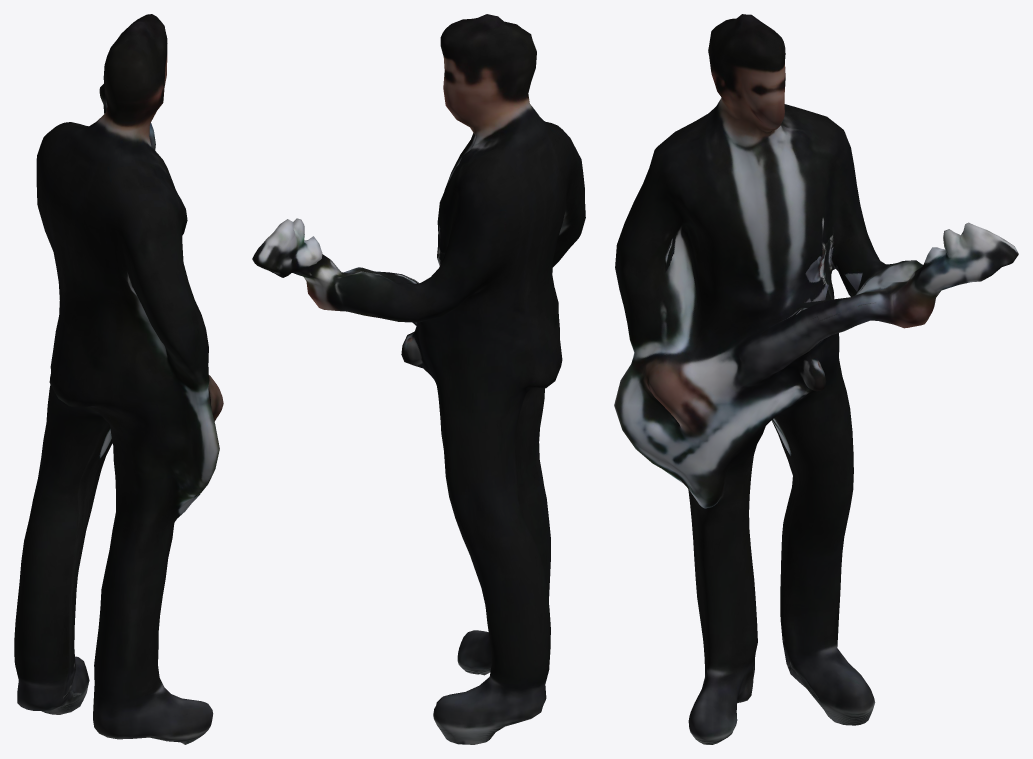
The model's file is 8cac6ec20dd6_bass_guitarist_eleg.obj.
3 views of the same model, side by side, from view 1: azimuth 30°, elevation 25°; view 2: azimuth 150°, elevation 25°; view 3: azimuth 270°, elevation 25° (orthographic). The views are drawn at different scales.
Visible parts, largest first — view 1: mesh; view 2: mesh; view 3: mesh.
Part boxes in pixels (x1,y1,x2,y2): mesh: (14, 14, 223, 744); mesh: (252, 14, 585, 744); mesh: (614, 14, 1018, 744).
Bounding box in the file's own units: 0.3077 × 0.9994 × 0.5125.
Materials: 1 (1 with a texture image).
